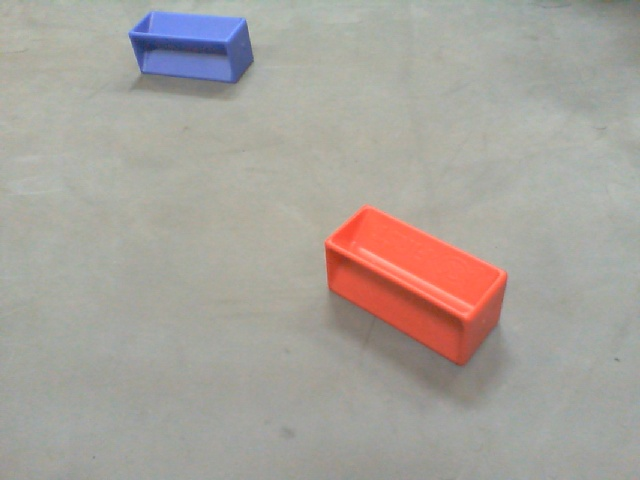BlueSample: (127, 9, 258, 82)
RedSample: (321, 198, 508, 374)
